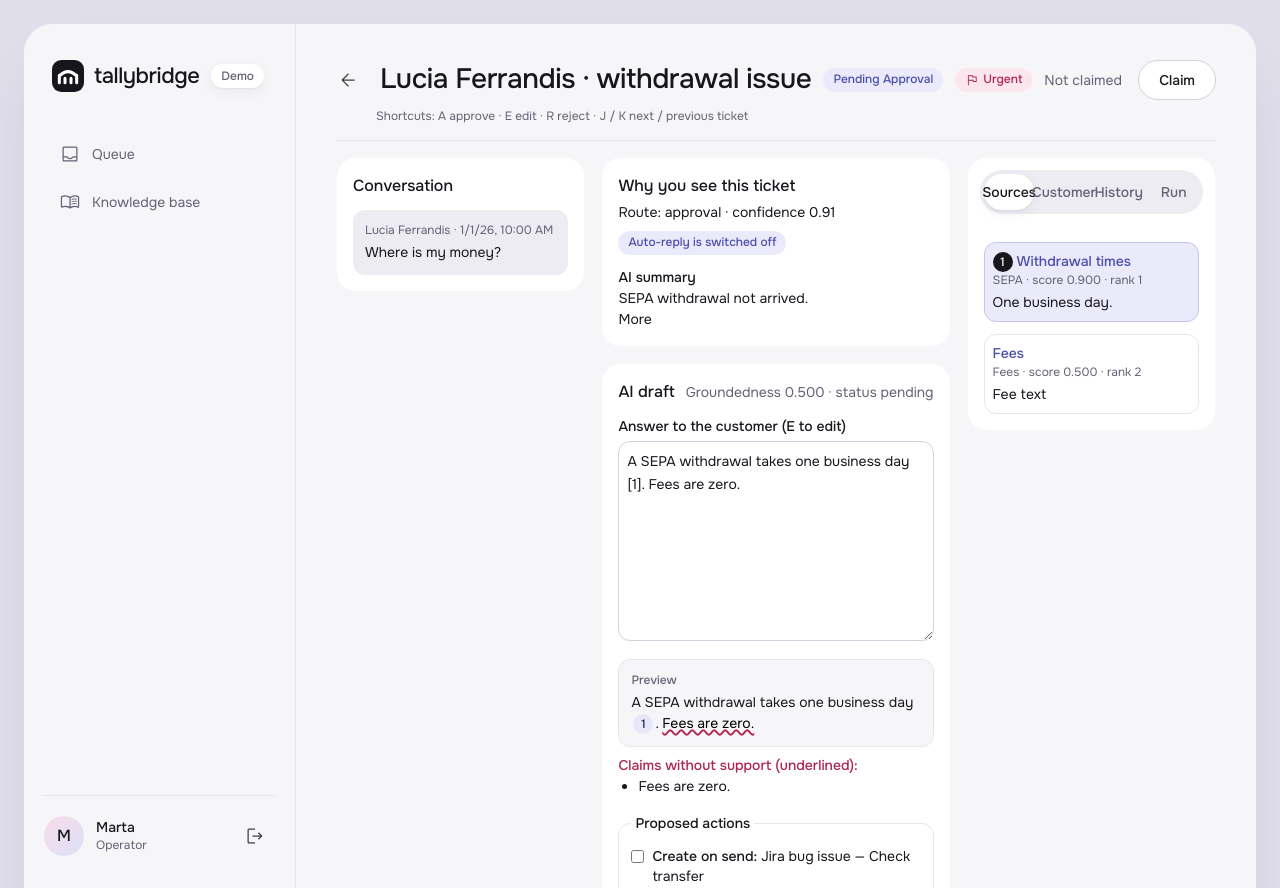
it: ticket workspace › refuses to send a marker without a source
This screenshot has width=1280, height=888.
Step 1. Replace the text in the text box labelled "Answer to the customer (E to edit)" with "See [1] and [7]." → (776, 541), box [618,441,934,641]
(page scrolled)
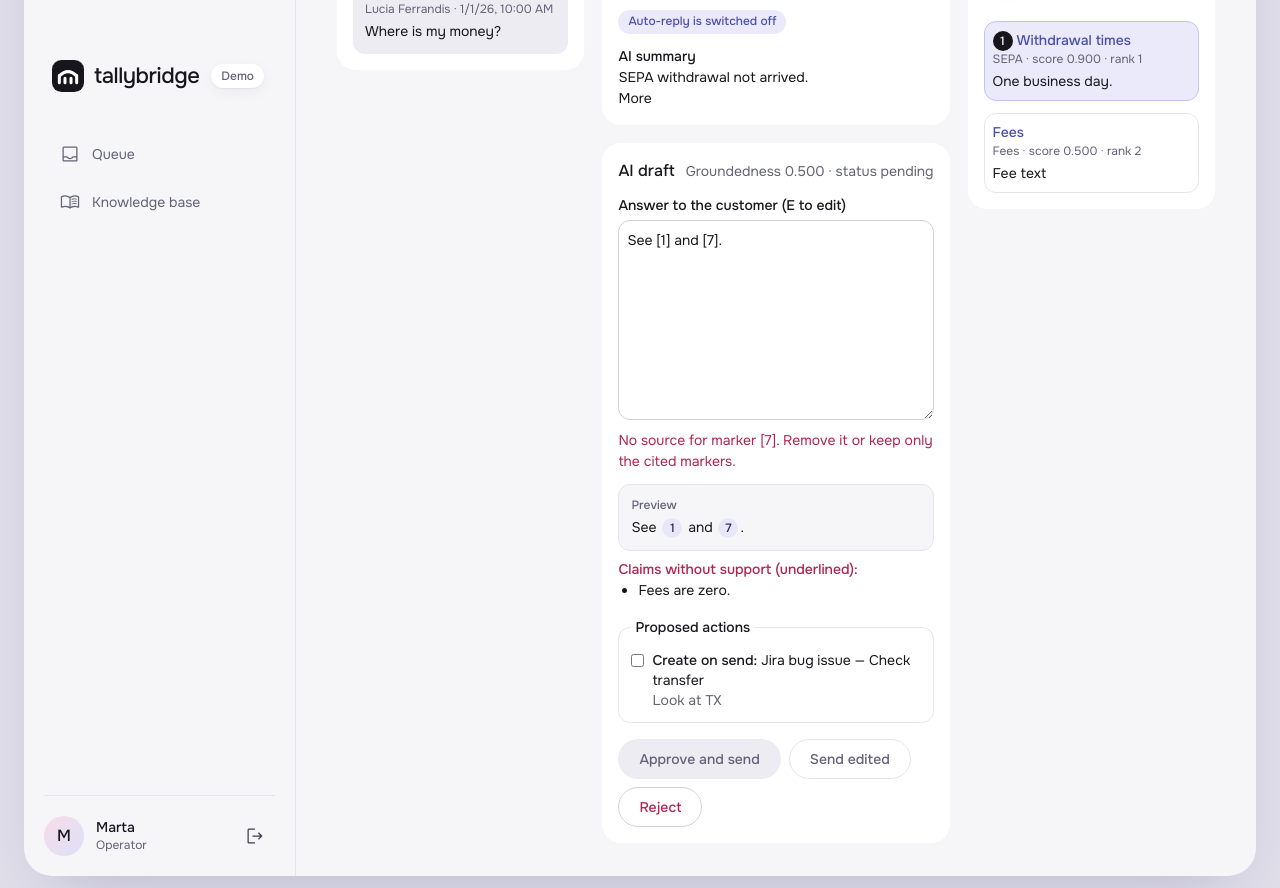
Expected: the button "Send edited" is disabled, [789,739,911,779]
Now the message shows "No source for marker [7]", box [618,430,934,472]
